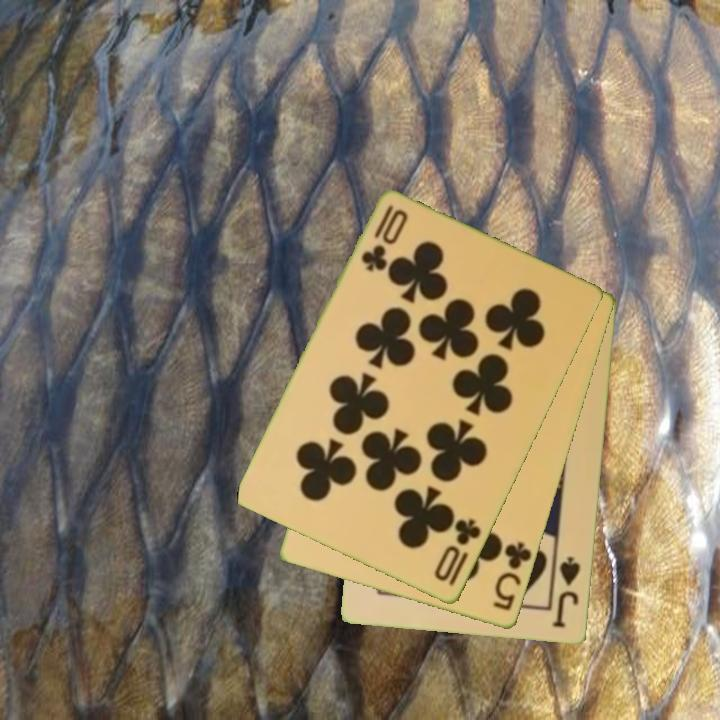10c: (430, 515, 485, 590), (357, 202, 397, 276)
5c: (489, 538, 535, 614)
Js: (549, 554, 584, 631)
